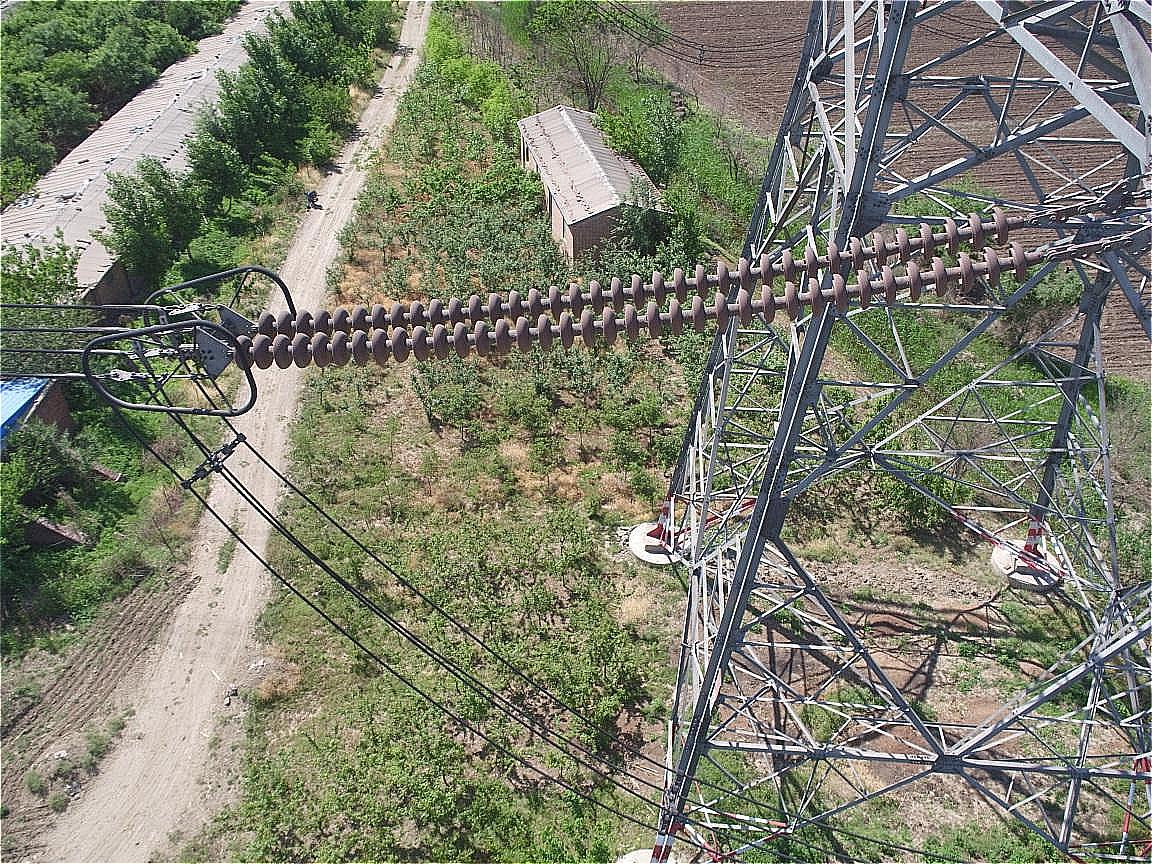insultor1: (208, 199, 1055, 378)
